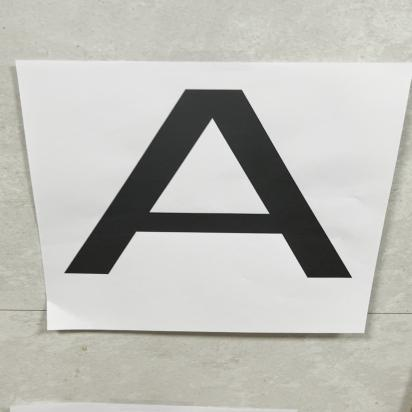seat: (31, 79, 371, 310)
